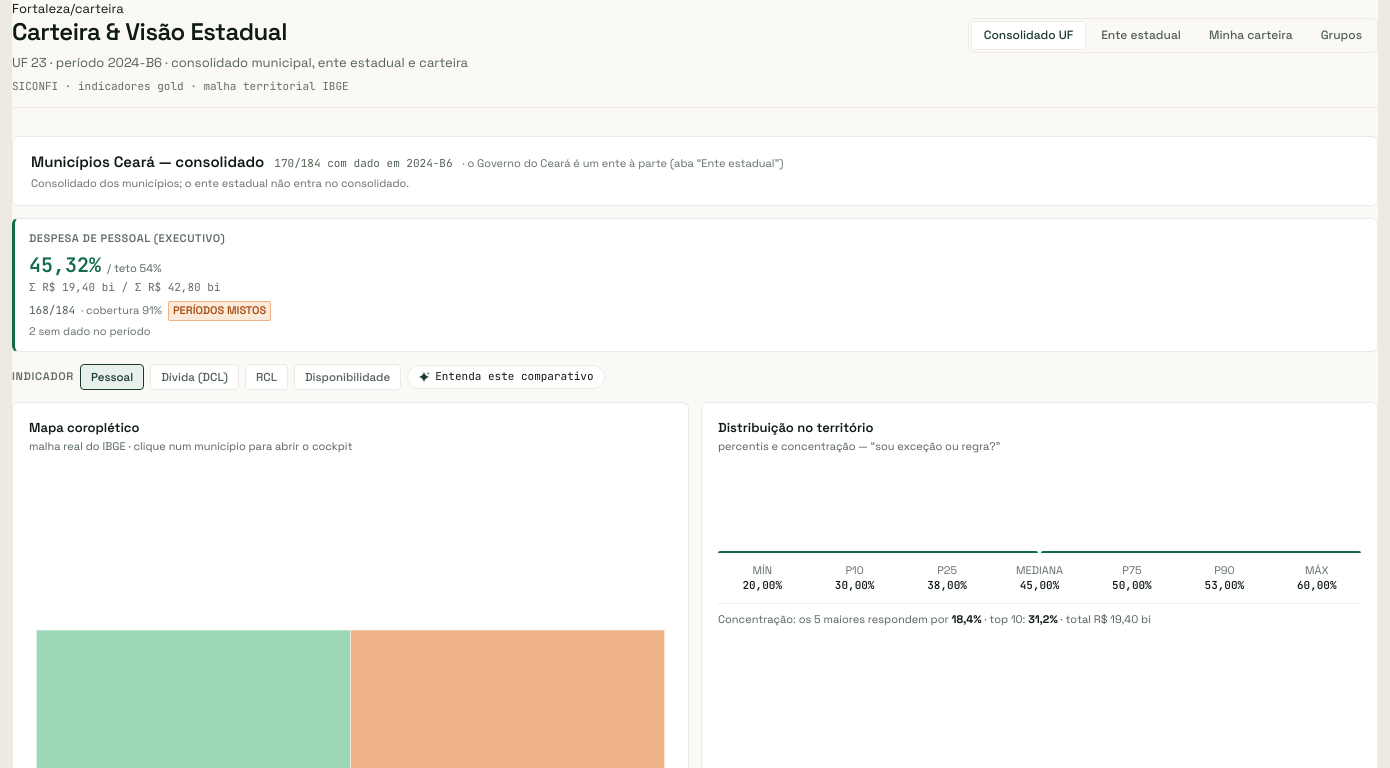
Scenario: Consolidado UF › preserva o indicador do ranking na navegação para o Cockpit (Sprint D1)
The image size is (1390, 768).
// Troca o indicador do ranking para Dívida antes de clicar num ente.
Click the button "Dívida (DCL)" at point(195, 377), box [150,364,239,390]
(page scrolled)
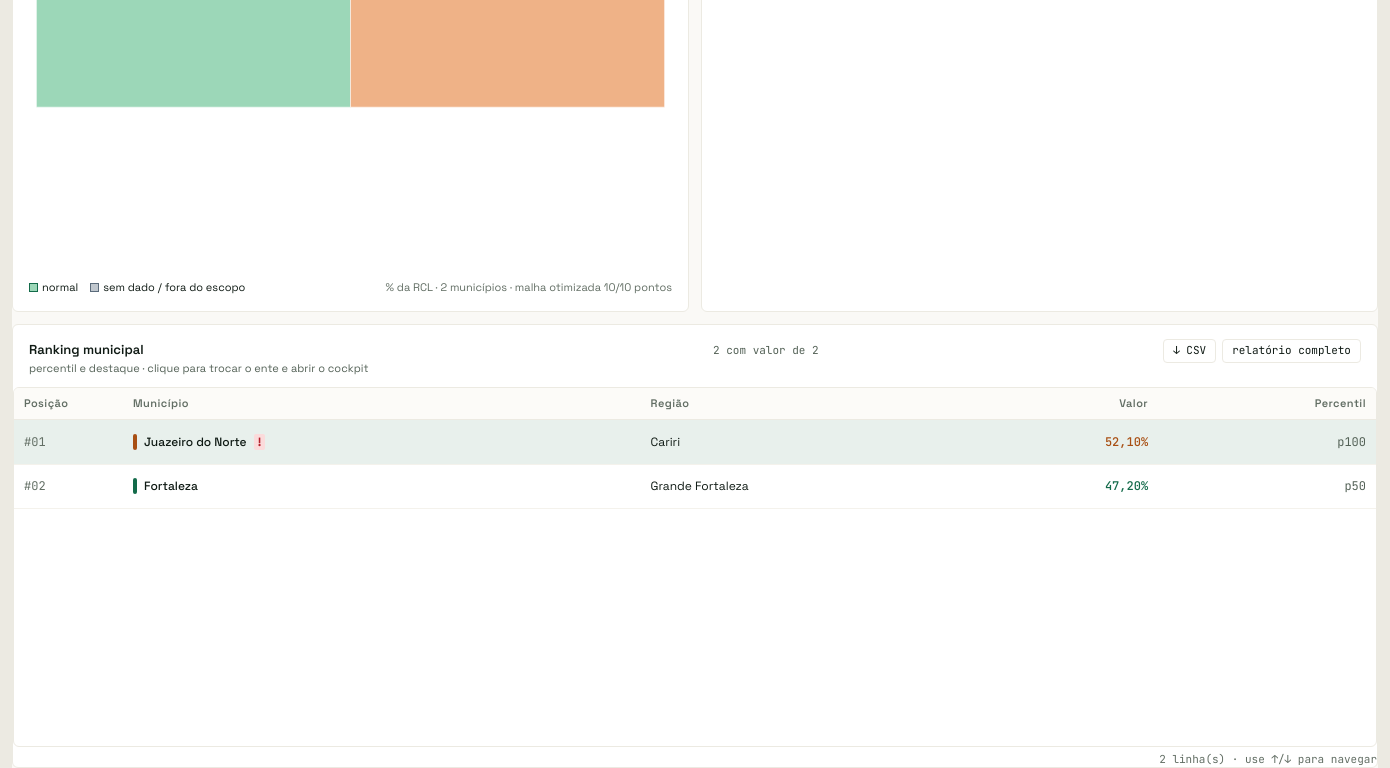
Click the text "Juazeiro do Norte" at point(195, 442), box [144,434,247,450]
(page scrolled)
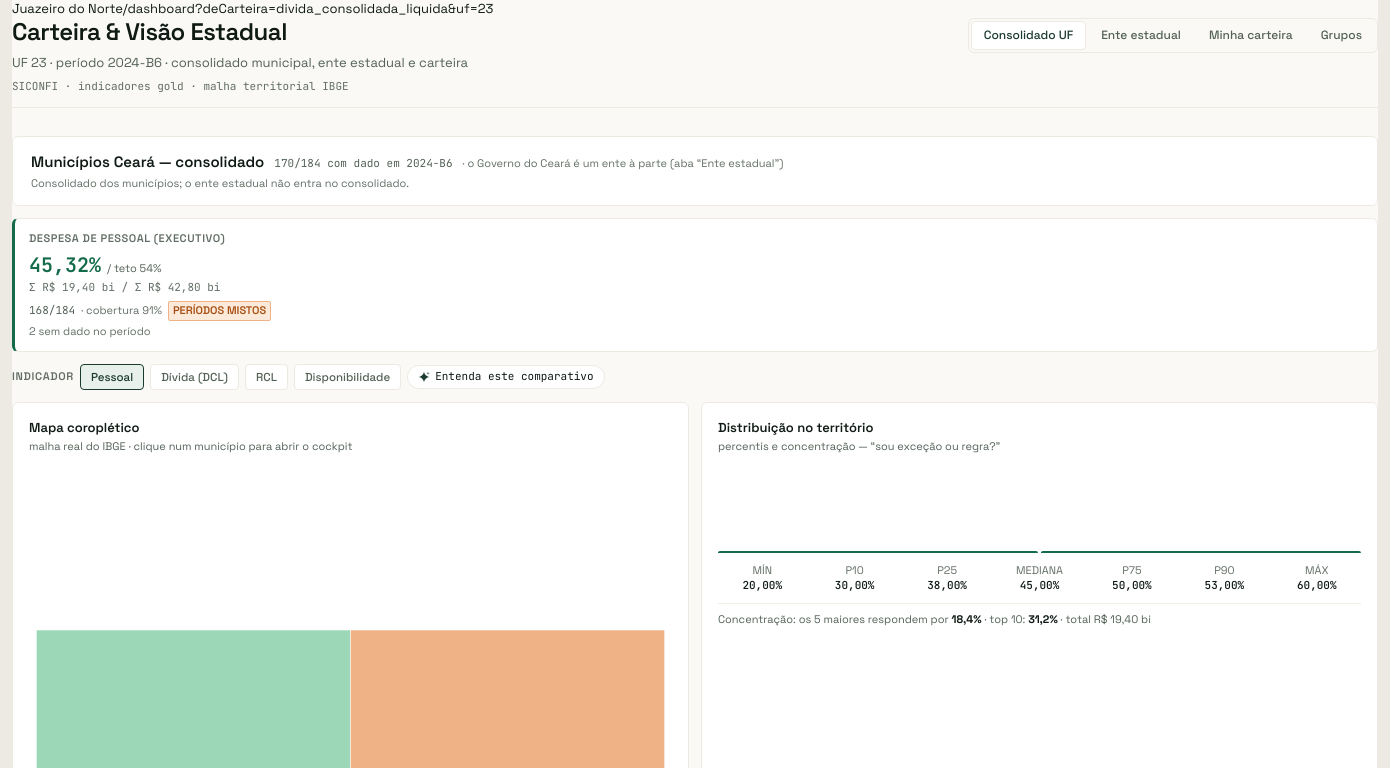
expect the text with test id "location" reads "/dashboard?deCarteira=divida_consolidada_liquida&uf=23": met, box [123,0,493,17]
